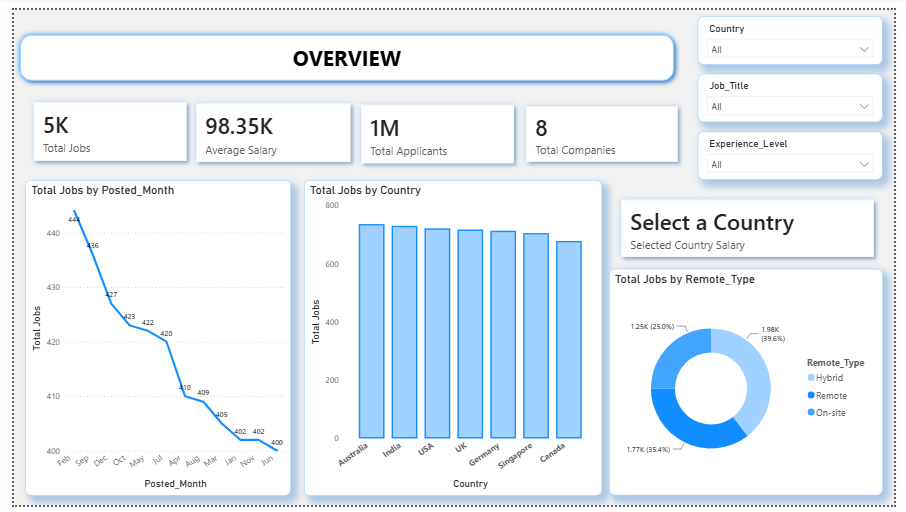

What the dashboard file says about the page in this screenshot:
{"tool":"powerbi","page":{"name":"Executive Overview","canvas":[1280,720],"ordinal":0},"visuals":[{"type":"cardVisual","fields":{"Data":["AI_Job_Market_Dataset_5000.Total Jobs"]},"box":[0,105.9,280.4,143.1],"z":0},{"type":"cardVisual","fields":{"Data":["AI_Job_Market_Dataset_5000.Average Salary"]},"box":[237.3,107.8,282.4,143.1],"z":1000},{"type":"cardVisual","fields":{"Data":["AI_Job_Market_Dataset_5000.Total Applicants"]},"box":[476.5,109.8,280.4,143.1],"z":2000},{"type":"cardVisual","fields":{"Data":["AI_Job_Market_Dataset_5000.Total Companies"]},"box":[715.7,111.8,278.4,139.2],"z":3000},{"type":"shape","box":[0,27.5,968.6,84.3],"z":4000},{"type":"clusteredColumnChart","fields":{"Category":["AI_Job_Market_Dataset_5000.Country"],"Y":["JobData.Total Jobs"]},"box":[421.6,247.1,433.3,458.8],"z":5000},{"type":"donutChart","fields":{"Y":["AI_Job_Market_Dataset_5000.Total Jobs"],"Category":["AI_Job_Market_Dataset_5000.Remote_Type"]},"box":[864.7,376.5,398,329.4],"z":6000},{"type":"lineChart","fields":{"Category":["AI_Job_Market_Dataset_5000.Posted_Month"],"Y":["AI_Job_Market_Dataset_5000.Total Jobs"]},"box":[15.7,247.1,386.3,458.8],"z":7000},{"type":"slicer","fields":{"Values":["JobData.Country"]},"box":[994.1,9.8,268.6,70.6],"z":8000},{"type":"slicer","fields":{"Values":["JobData.Experience_Level"]},"box":[994.1,176.5,268.6,70.6],"z":9000},{"type":"slicer","fields":{"Values":["JobData.Job_Title"]},"box":[994.1,93.1,268.6,70.6],"z":10000},{"type":"cardVisual","fields":{"Data":["JobData.Selected Country Salary"]},"box":[854.9,247.1,425.5,141.2],"z":11000}]}

Visuals, with their boxes in screenshot pixels (x1, y1, x2, y2), scaled from the page's 1280x720 canvas onto the 906x512 screenshot:
cardVisual - AI_Job_Market_Dataset_5000.Total Jobs: (0,75,198,177)
cardVisual - AI_Job_Market_Dataset_5000.Average Salary: (168,77,368,178)
cardVisual - AI_Job_Market_Dataset_5000.Total Applicants: (337,78,536,180)
cardVisual - AI_Job_Market_Dataset_5000.Total Companies: (507,80,704,178)
shape: (0,20,686,80)
clusteredColumnChart - AI_Job_Market_Dataset_5000.Country x JobData.Total Jobs: (298,176,605,502)
donutChart - AI_Job_Market_Dataset_5000.Total Jobs x AI_Job_Market_Dataset_5000.Remote_Type: (612,268,894,502)
lineChart - AI_Job_Market_Dataset_5000.Posted_Month x AI_Job_Market_Dataset_5000.Total Jobs: (11,176,285,502)
slicer - JobData.Country: (704,7,894,57)
slicer - JobData.Experience_Level: (704,126,894,176)
slicer - JobData.Job_Title: (704,66,894,116)
cardVisual - JobData.Selected Country Salary: (605,176,905,276)
